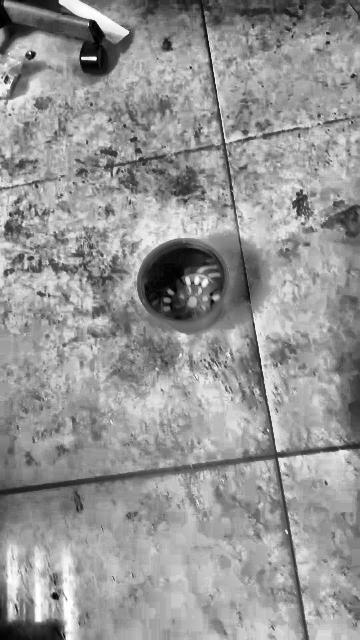pot: (138, 238, 228, 332)
